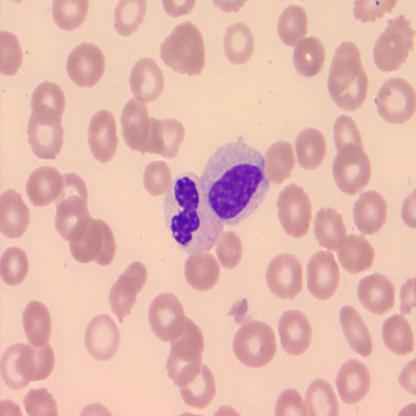Metamyelocyte: (200, 136, 272, 229)
